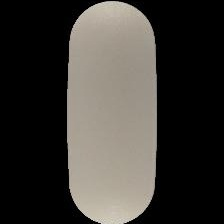64725-0283: (0, 0, 224, 224)
